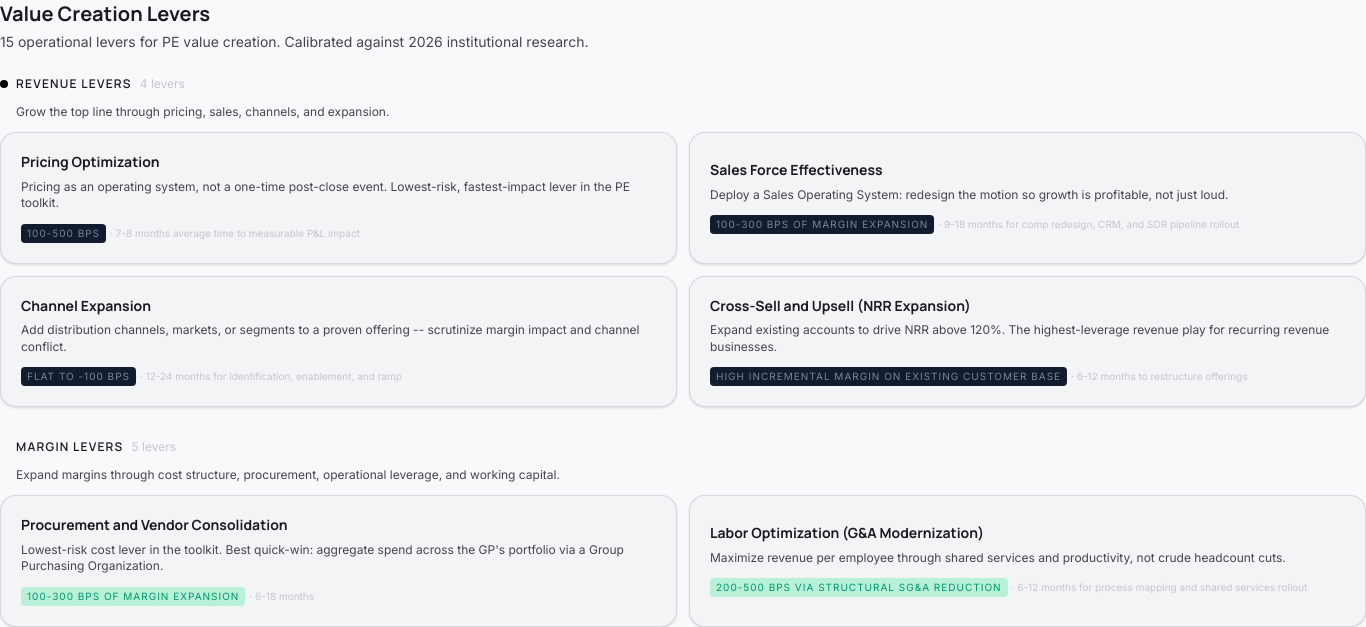
Test case: LeverList › navigates to lever detail on tile click
Click the button "Pricing Optimization": click(90, 162) x1=0 y1=132 x2=677 y2=264
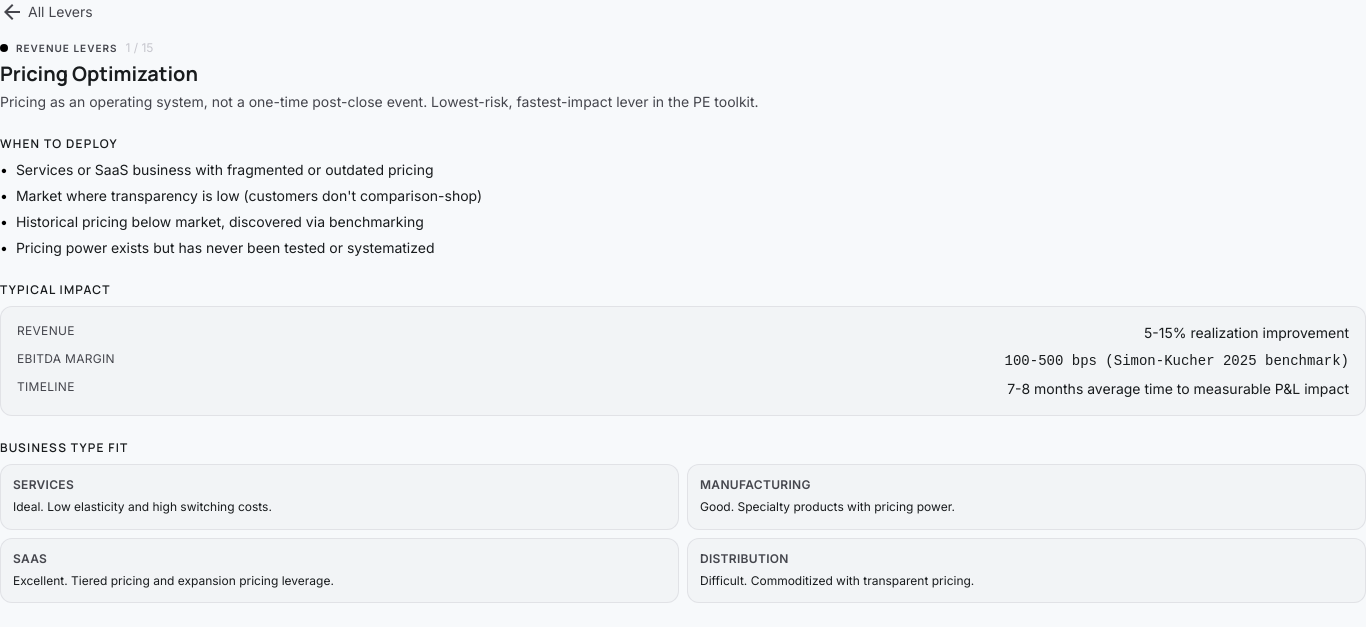
Now the heading "When to Deploy" is shown, box x1=0 y1=135 x2=118 y2=152
